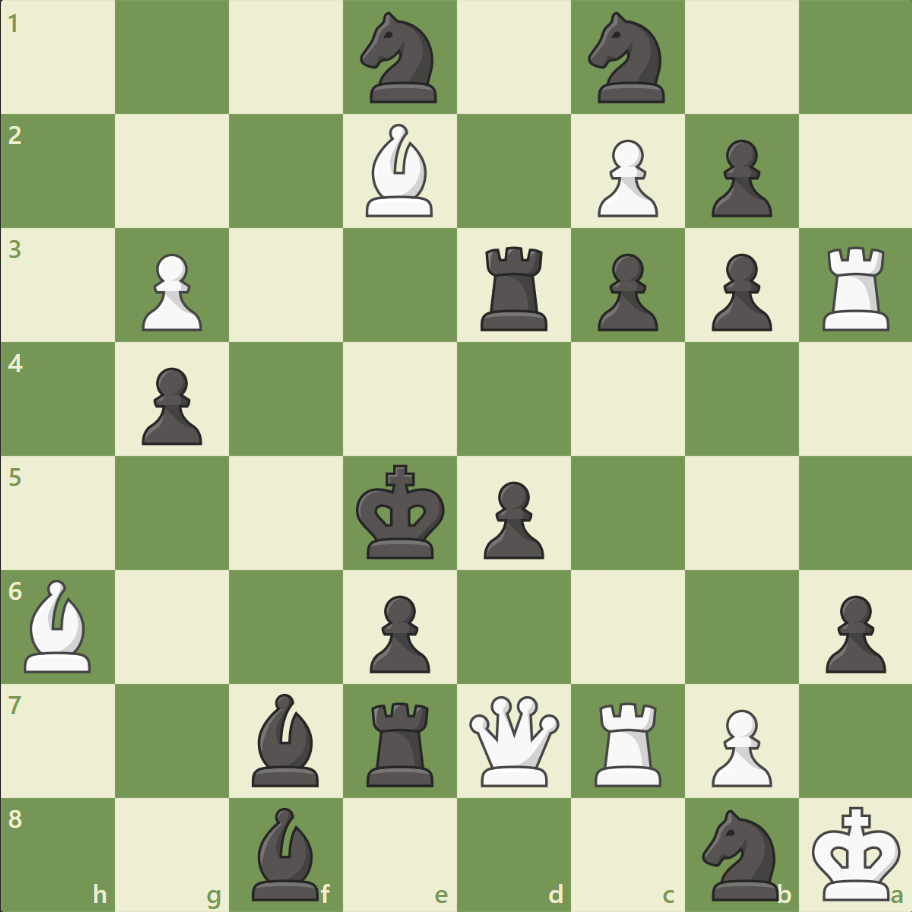B: (17, 574, 101, 676), (358, 120, 442, 222)
K: (806, 798, 906, 906)
P: (701, 700, 776, 791), (133, 246, 208, 337), (588, 132, 662, 223)
Q: (464, 690, 563, 789)
R: (587, 693, 670, 790), (814, 239, 897, 336)
b: (244, 801, 328, 904), (244, 687, 328, 790)
k: (351, 458, 451, 566)
n: (351, 7, 449, 110), (579, 7, 676, 110), (692, 802, 789, 904)
p: (474, 473, 549, 564), (133, 359, 208, 450), (701, 246, 776, 337), (701, 132, 776, 223), (815, 586, 889, 677), (361, 586, 435, 677), (588, 246, 662, 337)
r: (473, 239, 556, 336), (360, 693, 442, 790)
